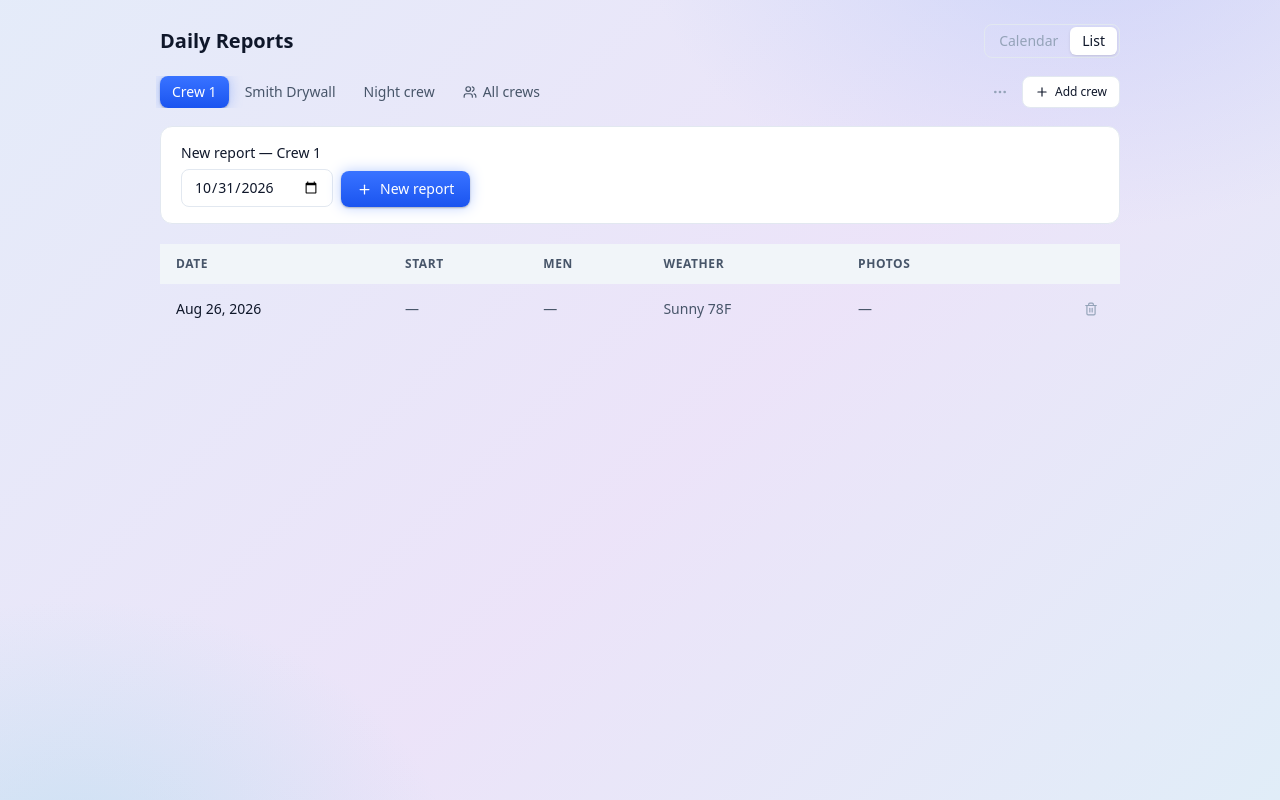
it: ProjectDailyReports — crews › a name the server refuses keeps the prompt open and says why; a blank one is caught first
Click the button "Add crew" at [1071, 92], box [1022,76,1120,108]
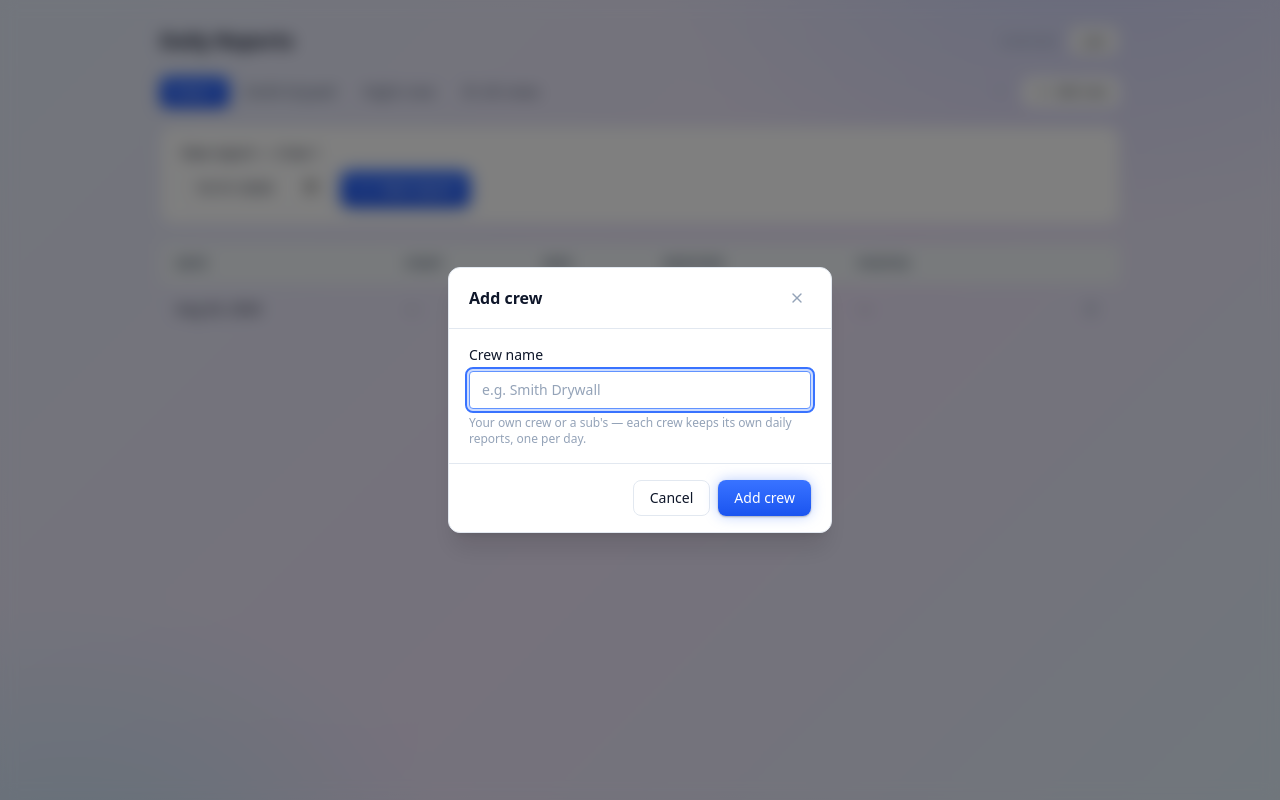
Click the button "Add crew" at [765, 498], box [718,480,811,516]
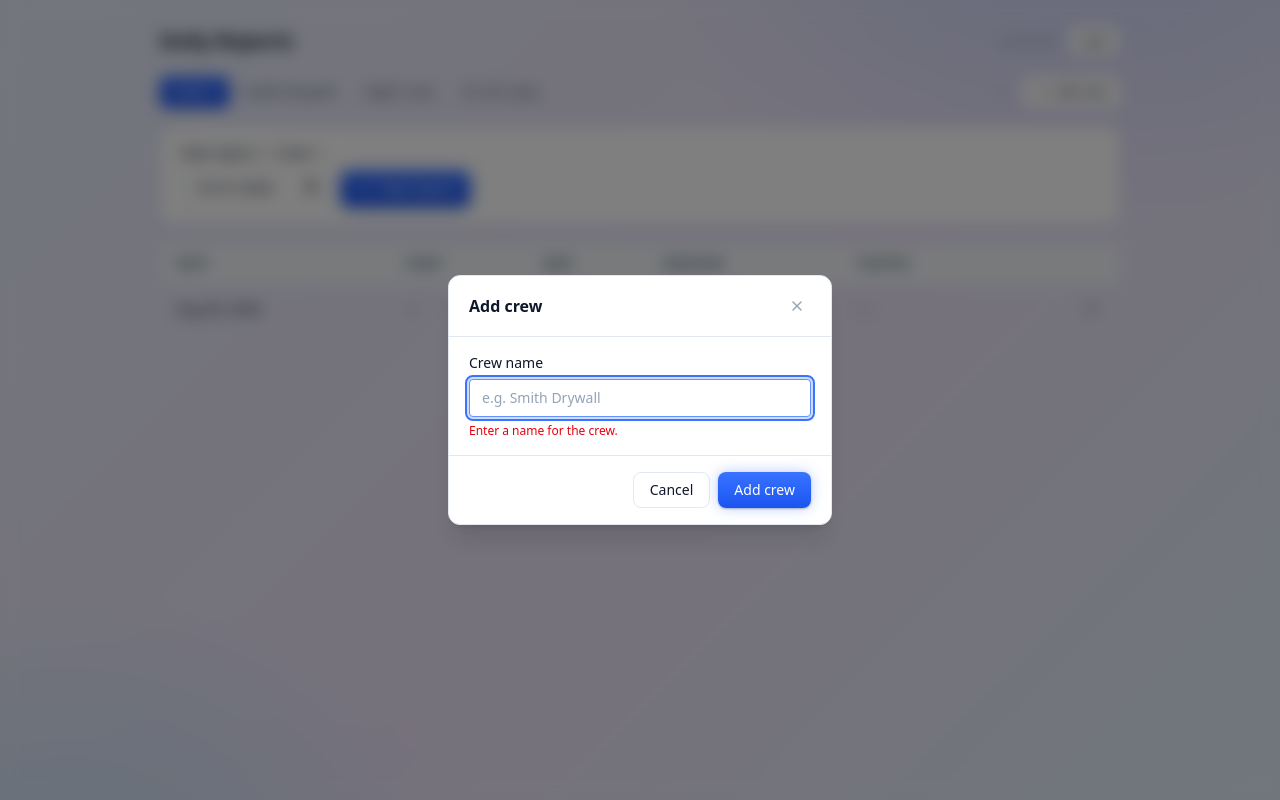
expect the text "Enter a name for the crew." is shown: met, box [469,422,618,439]
Type "crew 1" into the field labelled "Crew name" at [640, 398], box [469,379,811,417]
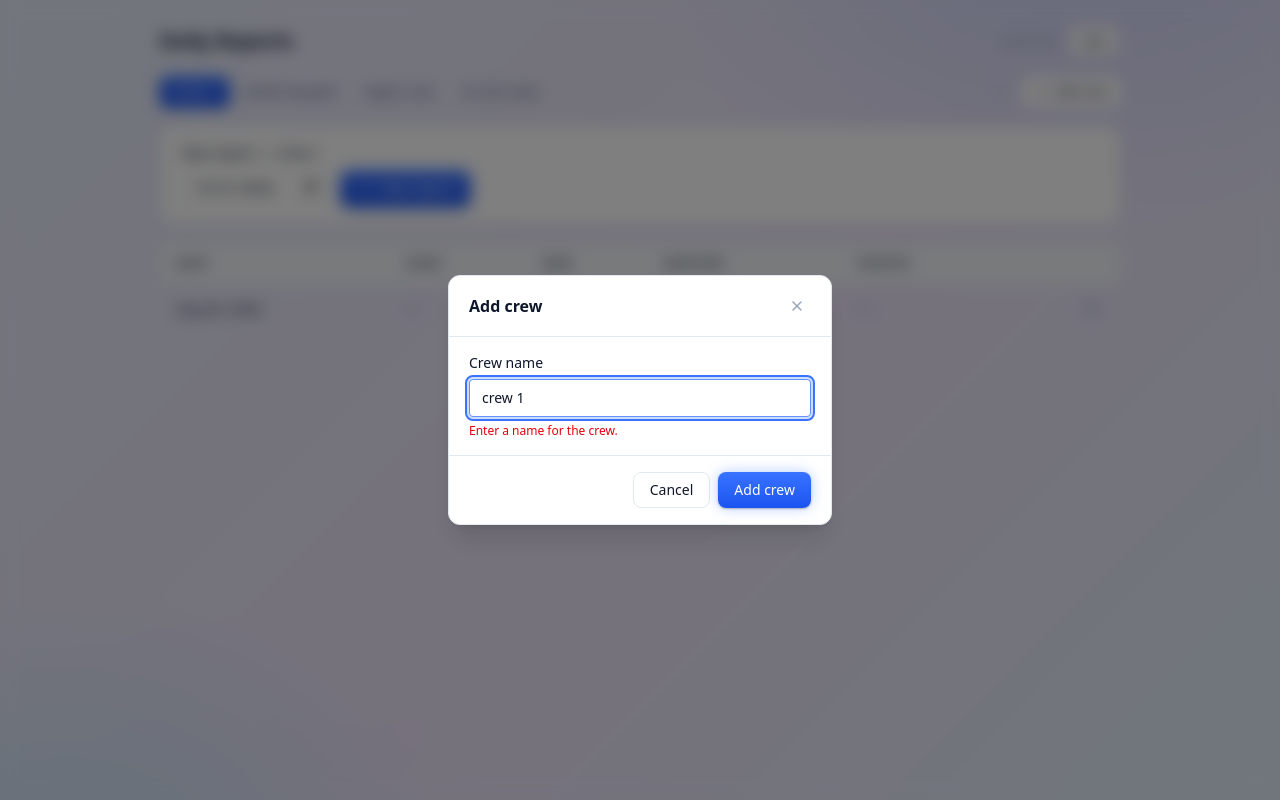
Click the button "Add crew" at [765, 490], box [718,472,811,508]
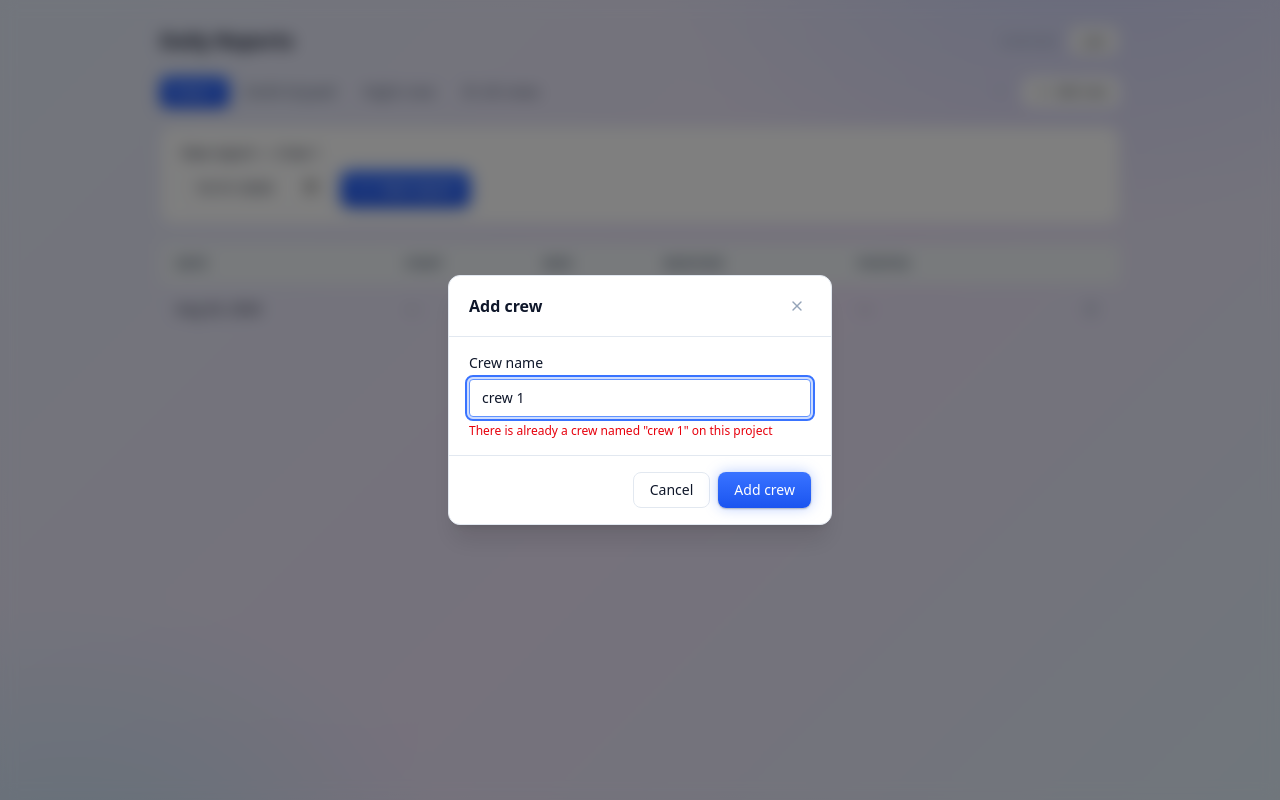
expect the dialog is shown: met, box [448,275,832,525]
expect the text "There is already a crew named \"crew 1\" on this project" is shown: met, box [469,423,811,439]
